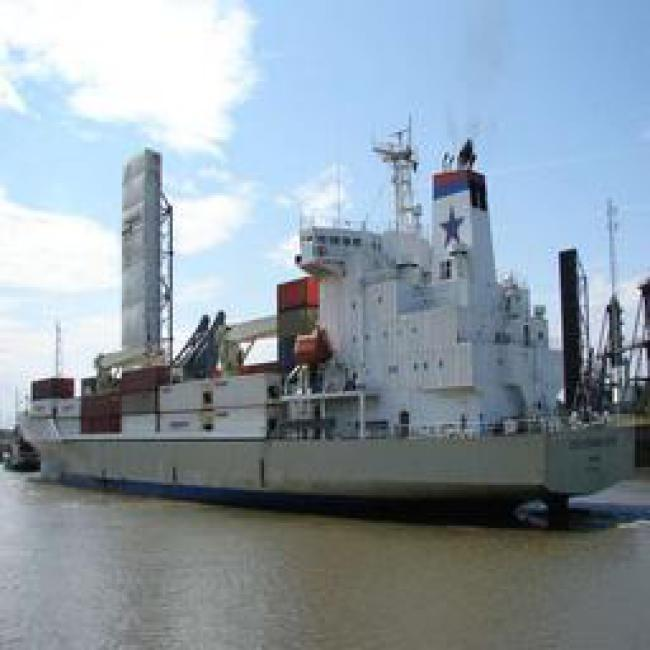Ship: (21, 392, 621, 536)
